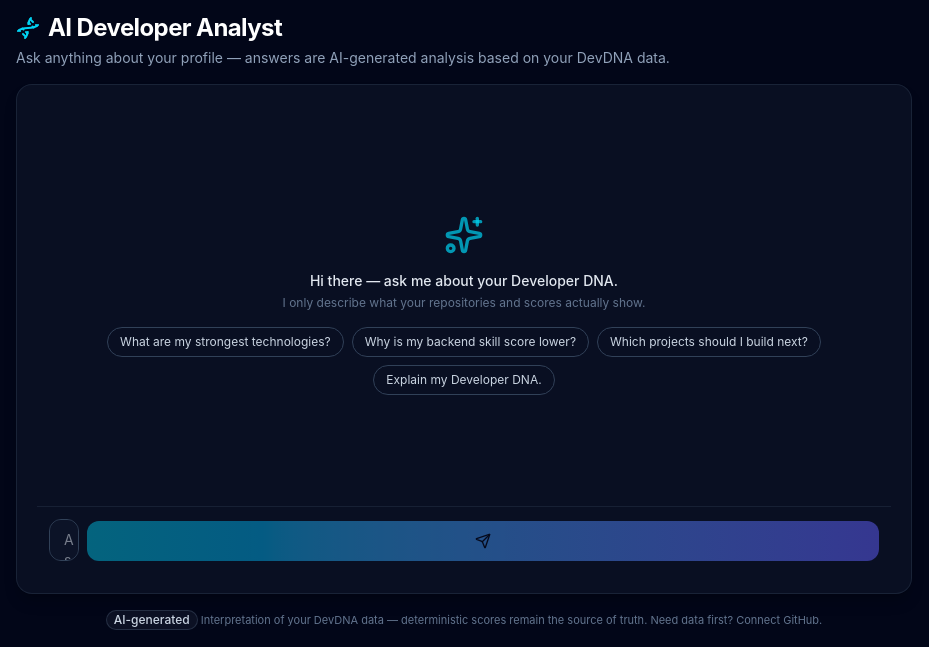
Test: AnalystPage › sends a message and renders the grounded assistant reply
Type "What are my strongest technologies?" into the text box with placeholder "Ask about your skills, gaps, roadmap…". click: {"x": 64, "y": 540}
box: x1=49 y1=519 x2=79 y2=561
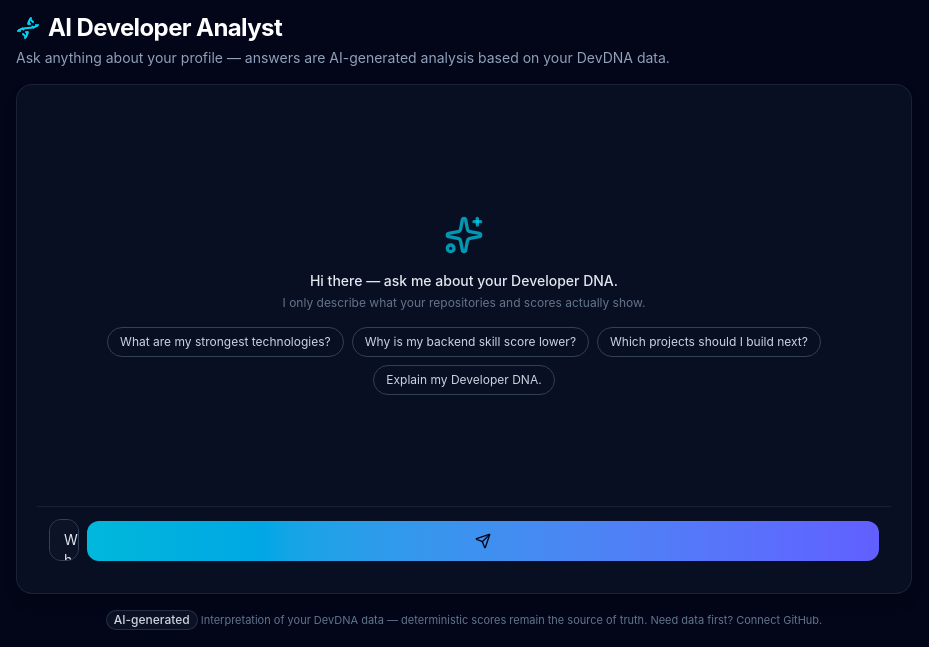
Click the button named "Send message". click: {"x": 483, "y": 541}
box: x1=87 y1=521 x2=879 y2=561
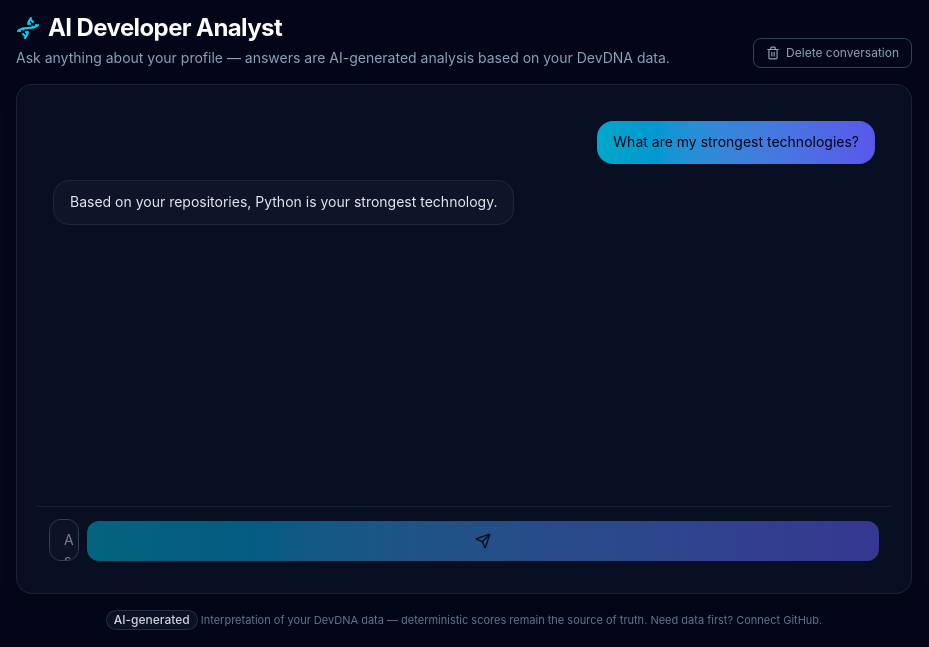
Now the text "Python is your strongest technology" is shown, box x1=70 y1=193 x2=498 y2=210
